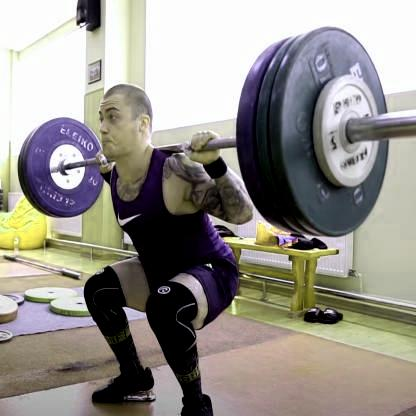barbell: (278, 26, 391, 238), (24, 117, 106, 219)
